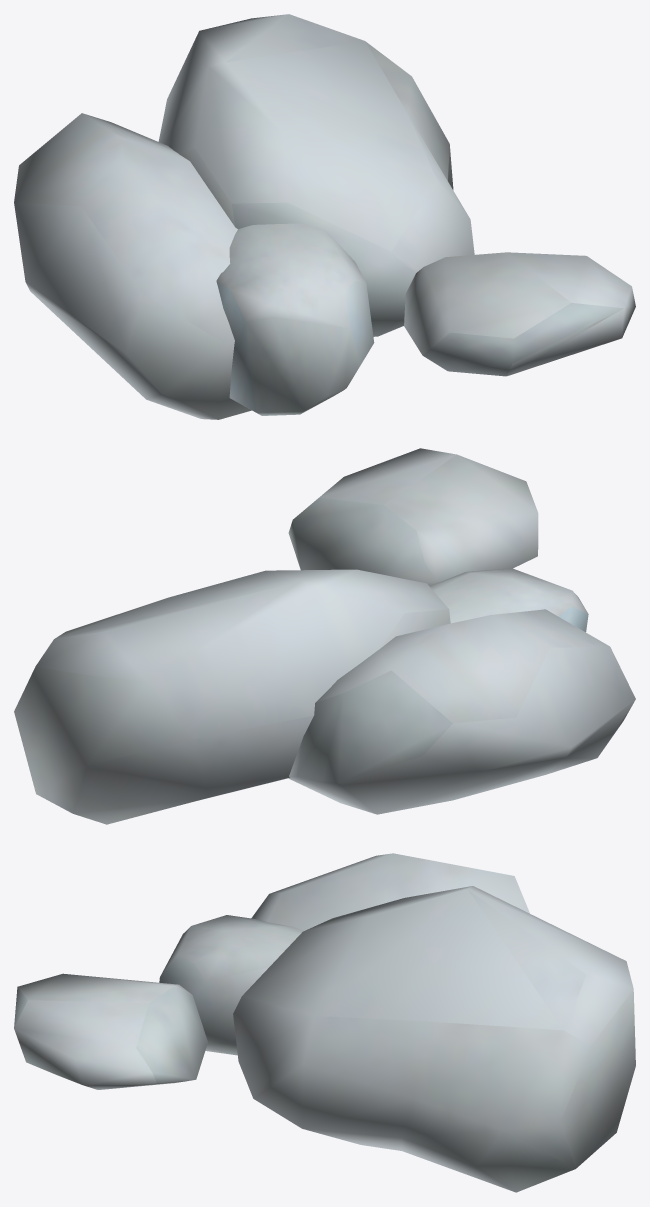
Rendered from P_RockClumpClassic4.obj.
The picture shows the model from 3 angles, top to bottom: view 1: azimuth 30°, elevation 25°; view 2: azimuth 150°, elevation 25°; view 3: azimuth 270°, elevation 25°; orthographic projection. The views are drawn at different scales.
Size of the model in its own units: 1.69 by 0.861 by 2.17.
